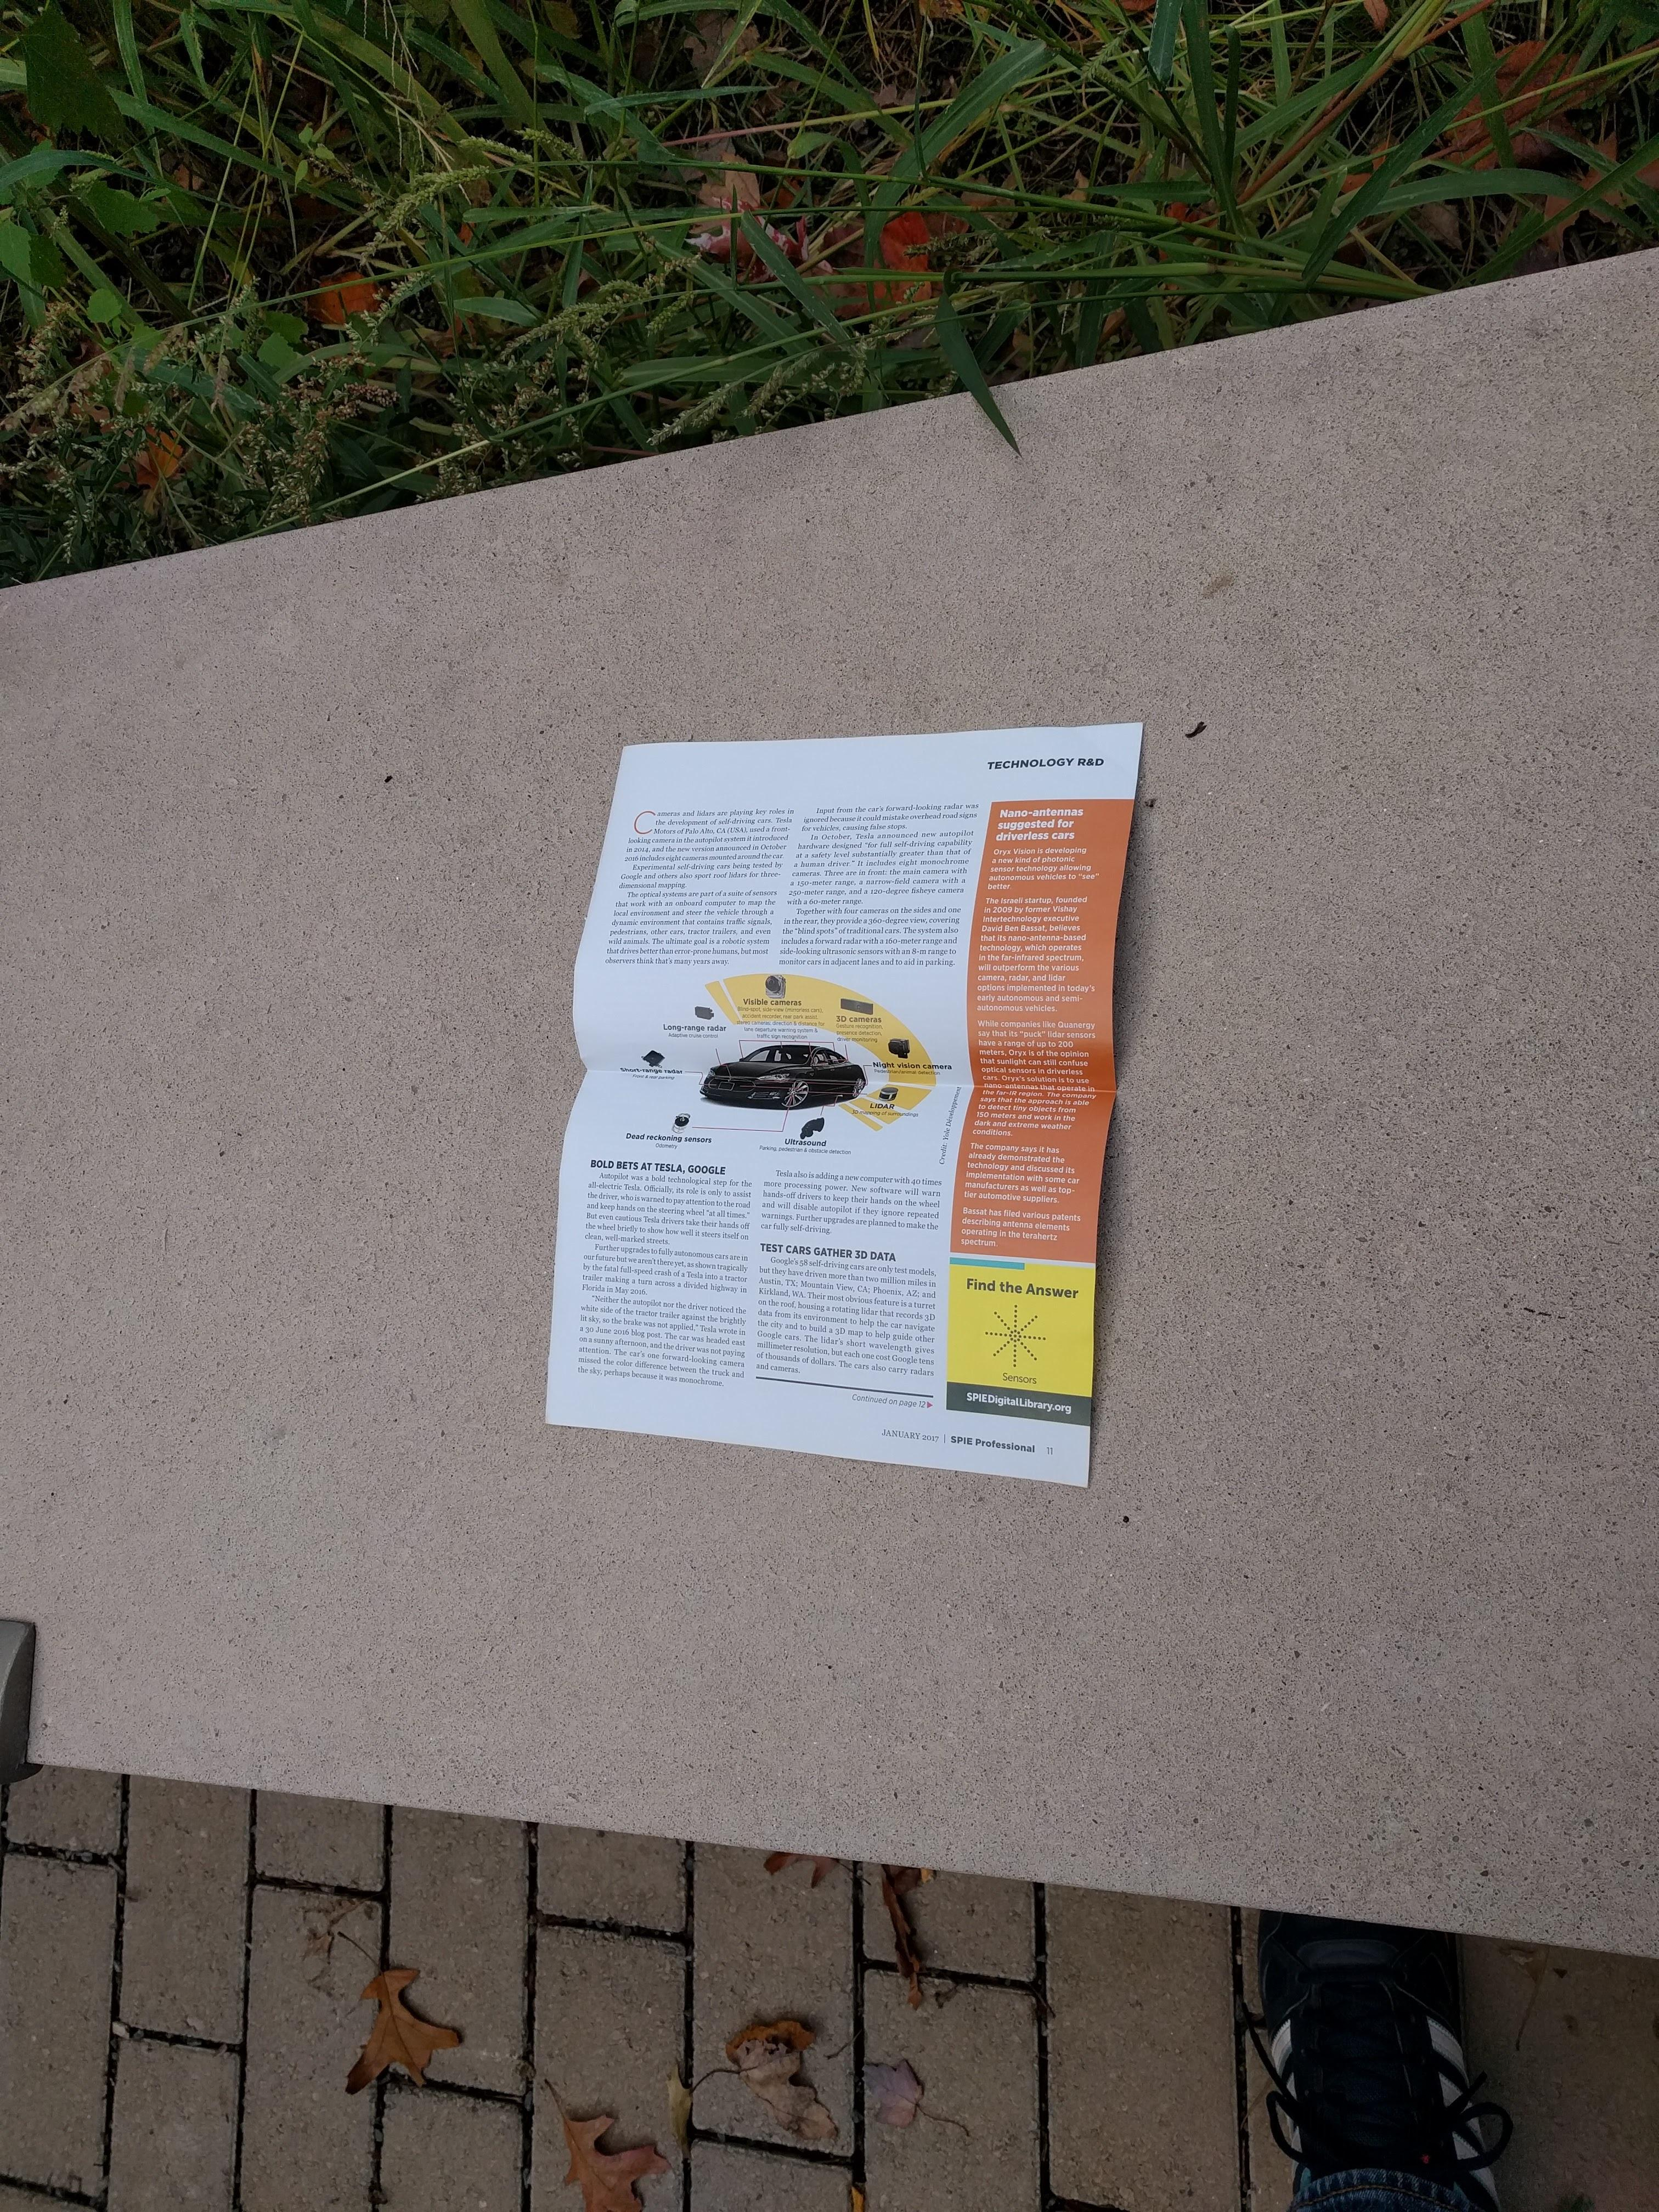paper: (410, 596, 1378, 1717)
